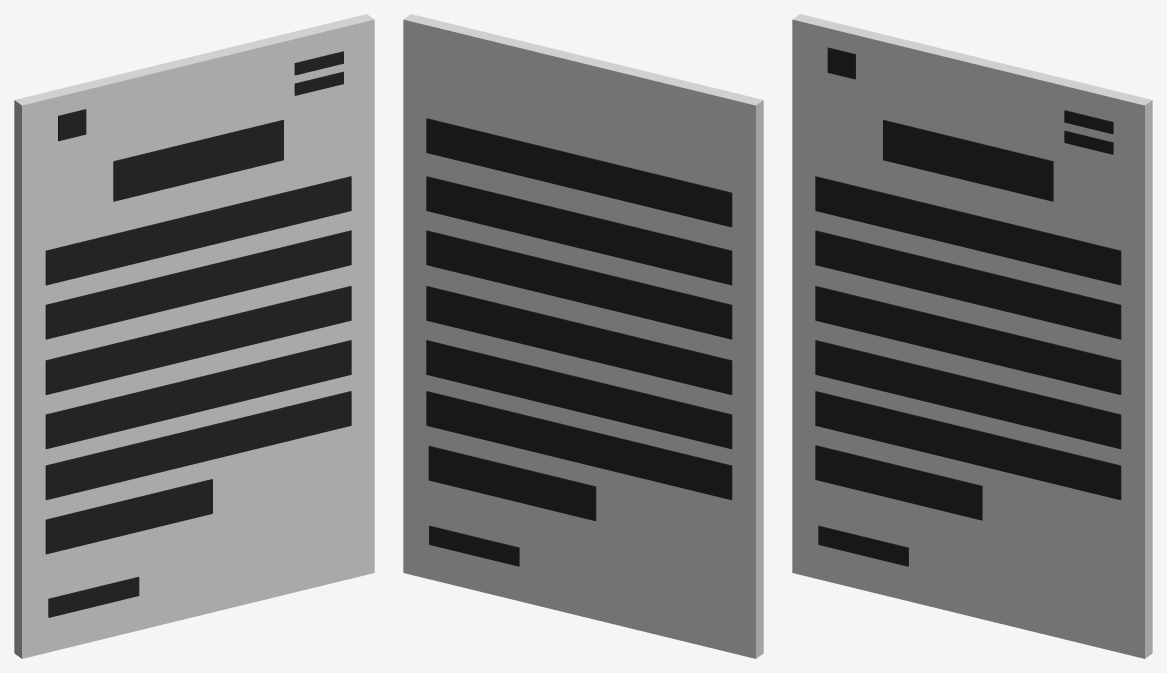
The model's file is DocumentPaper.fbx.
3 views of the same model, side by side, from view 1: azimuth 30°, elevation 25°; view 2: azimuth 150°, elevation 25°; view 3: azimuth 330°, elevation 25° (orthographic).
Visible parts, largest first — view 1: DocumentPaper; view 2: DocumentPaper; view 3: DocumentPaper.
Part boxes in pixels (x1,y1,x2,y2): DocumentPaper: (14, 14, 374, 658); DocumentPaper: (403, 14, 763, 658); DocumentPaper: (792, 14, 1152, 658).
Size of the model in its own units: 22 by 33 by 0.9687.
